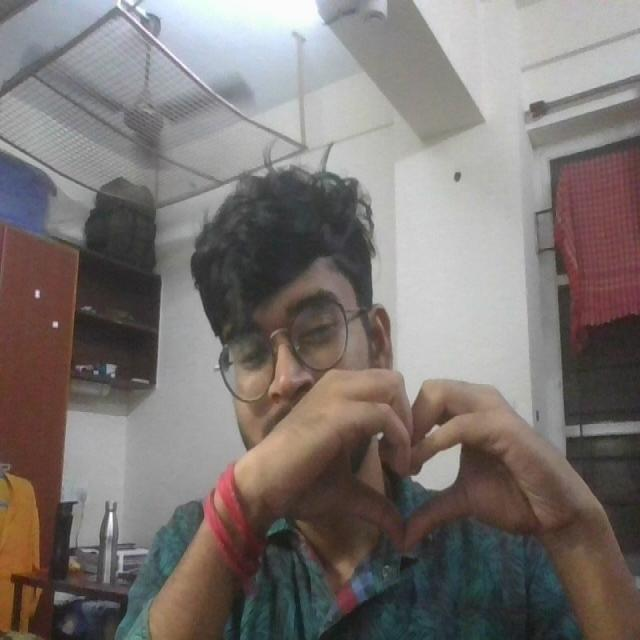IloveYou: (238, 327, 593, 585)
